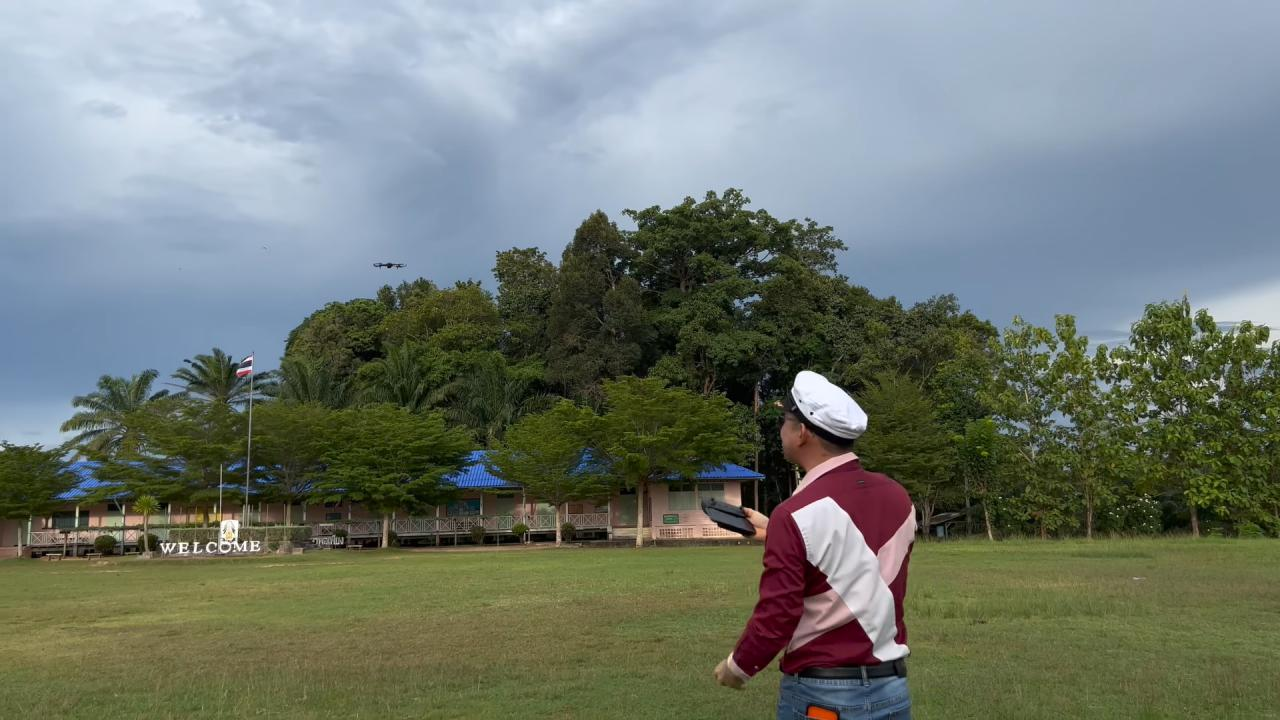Drone: (364, 250, 414, 280)
